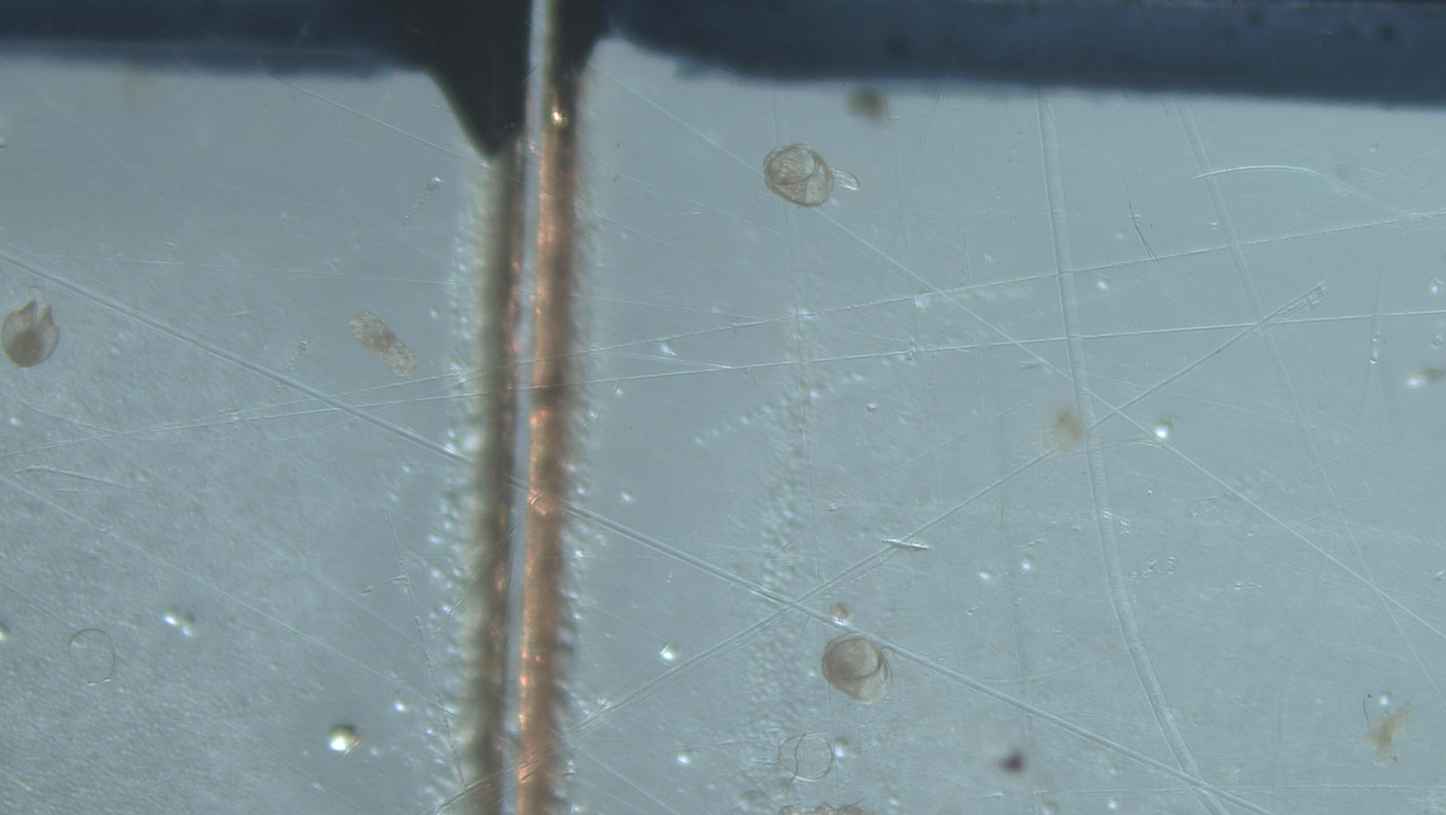dead: (68, 629, 117, 684), (777, 734, 821, 778), (796, 734, 834, 780)
live: (763, 144, 859, 207), (822, 633, 891, 703), (0, 291, 59, 367)
